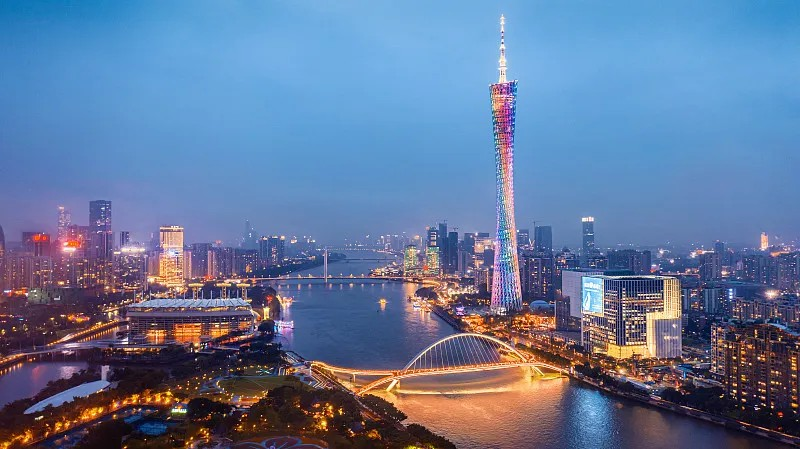Canton: (488, 12, 522, 314)
